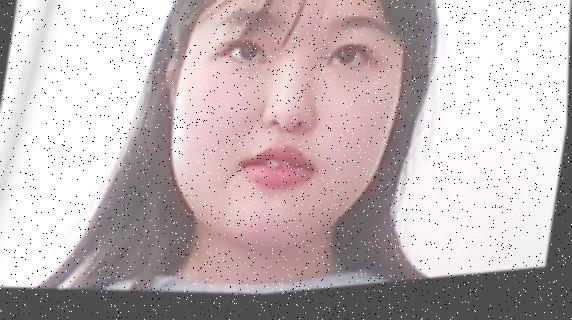eye: (337, 51, 357, 72), (239, 47, 259, 65)
iris: (228, 43, 271, 72), (327, 50, 373, 77)
